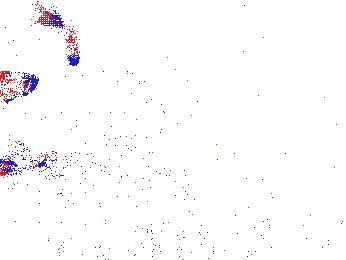glassfish: (82, 151, 185, 200)
red belly glassfish: (1, 155, 50, 177)
redtail glassfish: (44, 7, 84, 69), (1, 70, 39, 106)
